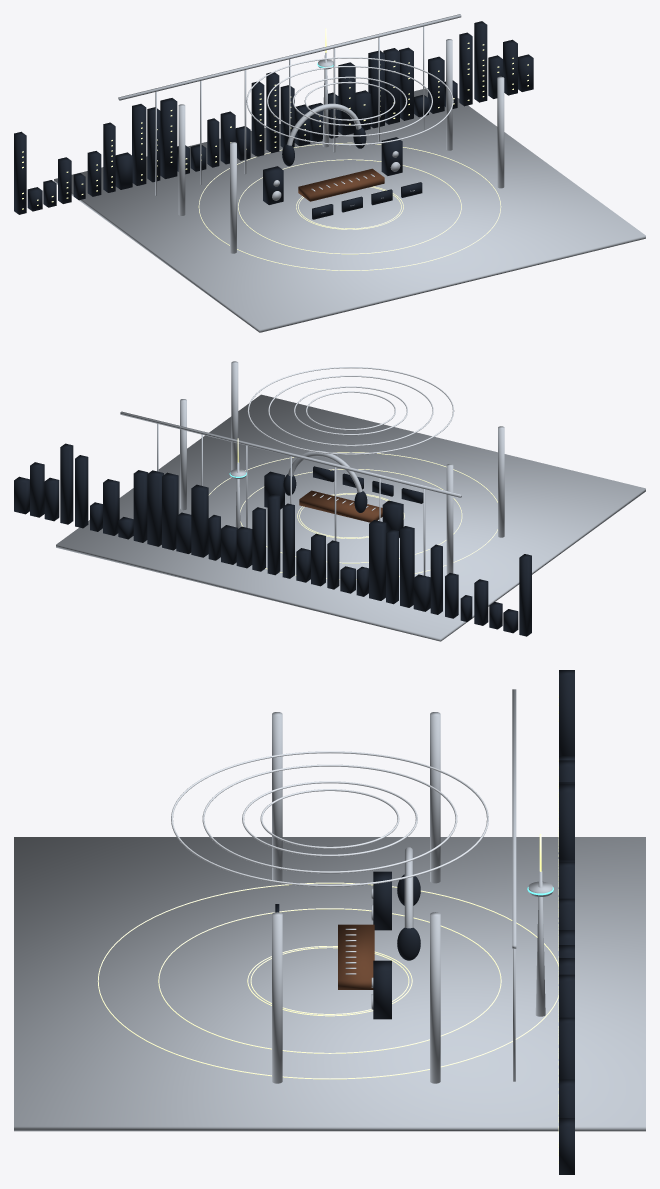
File: staarsonic.glb
The picture shows the model from 3 angles, top to bottom: view 1: azimuth 30°, elevation 25°; view 2: azimuth 150°, elevation 25°; view 3: azimuth 270°, elevation 25°; orthographic projection. The views are drawn at different scales.
Parts seen in each view (by area): view 1: Reflective floor, Window lintel, Studio console, Toronto skyline.010, Toronto skyline.008, Toronto skyline.031, Toronto skyline.022, Toronto skyline.024, Toronto skyline.025, Toronto skyline, Toronto skyline.017, Toronto skyline.030 (+28 smaller); view 2: Reflective floor, Window lintel, Toronto skyline.010, Studio console, Toronto skyline.022, Toronto skyline.024, Toronto skyline.008, Toronto skyline.025, Toronto skyline.031, Toronto skyline.017, Toronto skyline.026, Toronto skyline (+30 smaller); view 3: Reflective floor, Studio console, Ceiling light ring.003, Chrome column.002, Chrome column.003, Chrome column.001, Chrome column, Ceiling light ring.002, Architectural floor inlay.003, Toronto skyline, Window lintel, Toronto skyline.010 (+10 smaller).
Part boxes in pixels (x1,y1,x2,y2): Reflective floor: (54,88,645,332); Window lintel: (118,14,461,100); Studio console: (298,168,384,201); Toronto skyline.010: (160,98,177,178); Toronto skyline.008: (132,104,146,185); Toronto skyline.031: (474,21,487,102); Toronto skyline.022: (338,62,355,135); Toronto skyline.024: (368,50,384,128); Toronto skyline.025: (383,48,399,124); Toronto skyline: (14,131,26,214); Toronto skyline.017: (266,72,279,153); Toronto skyline.030: (459,32,472,106); Reflective floor: (56,394,645,641); Window lintel: (120,411,461,497); Toronto skyline.010: (369,520,386,600); Studio console: (299,490,382,522); Toronto skyline.022: (191,484,208,557); Toronto skyline.024: (162,472,178,550); Toronto skyline.008: (400,526,414,607); Toronto skyline.025: (147,470,163,546); Toronto skyline.031: (60,443,73,524); Toronto skyline.017: (267,494,280,575); Toronto skyline.026: (133,470,148,542); Toronto skyline: (519,554,531,636); Reflective floor: (14,837,645,1131); Studio console: (338,924,374,989); Ceiling light ring.003: (171,751,488,886); Chrome column.002: (272,912,282,1083); Chrome column.003: (430,912,440,1083); Chrome column.001: (430,712,440,883); Chrome column: (272,712,282,883); Ceiling light ring.002: (202,764,457,873); Architectural floor inlay.003: (97,882,558,1079); Toronto skyline: (559,670,574,755); Window lintel: (512,689,516,948); Toronto skyline.010: (559,784,574,859).
Size of the model in its own units: 34.64 by 7.77 by 24.
